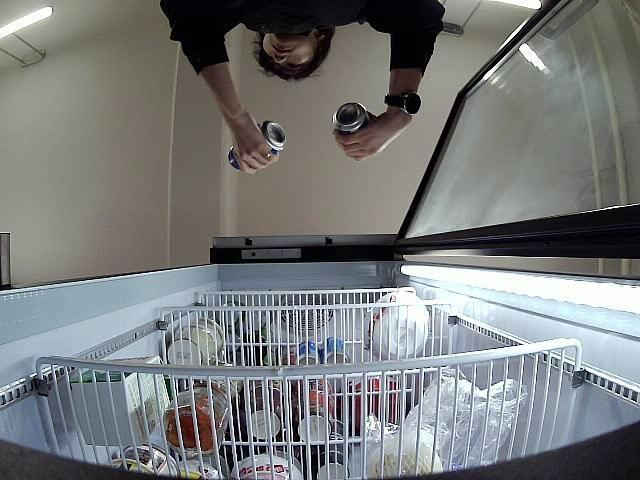13_pocariSweat: (228, 122, 284, 172), (334, 104, 376, 160)
